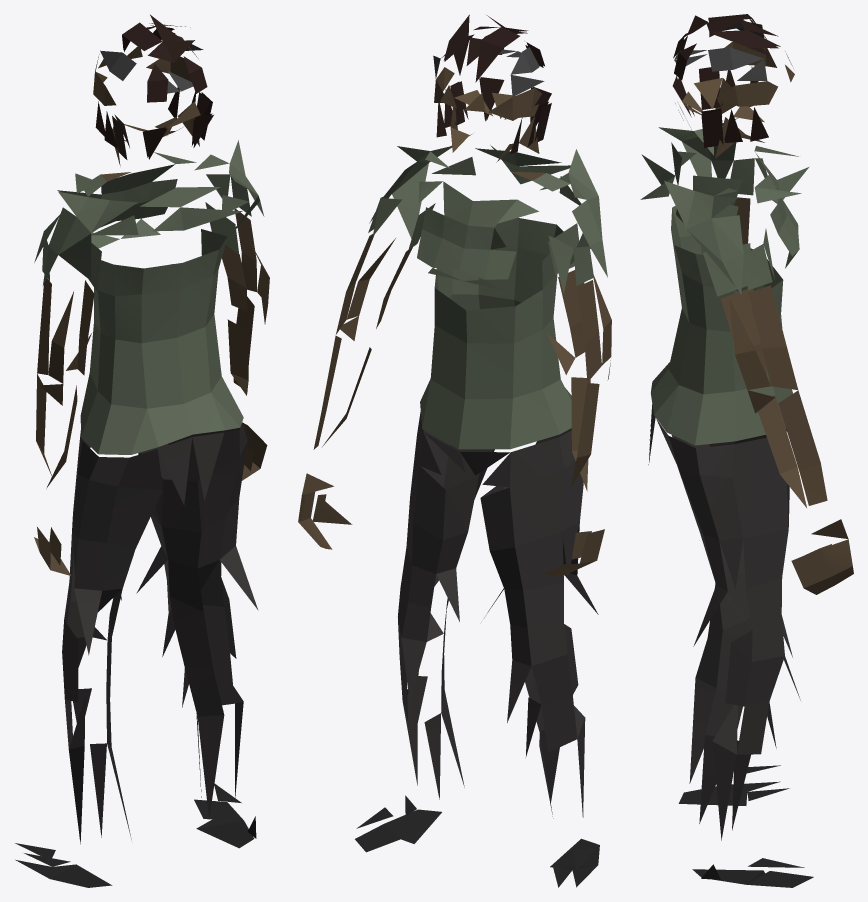
Rendered from personfar_7_idle.fbx.
3 views of the same model, side by side, from view 1: azimuth 30°, elevation 25°; view 2: azimuth 150°, elevation 25°; view 3: azimuth 270°, elevation 25° (orthographic).
Parts seen in each view (by area): view 1: Female; view 2: Female; view 3: Female.
Part boxes in pixels (x1=…): Female: x1=15, y1=14, x2=269, y2=887; Female: x1=298, y1=14, x2=611, y2=887; Female: x1=640, y1=14, x2=853, y2=887.
Size of the model in its own units: 0.3241 by 0.9833 by 0.2301.
